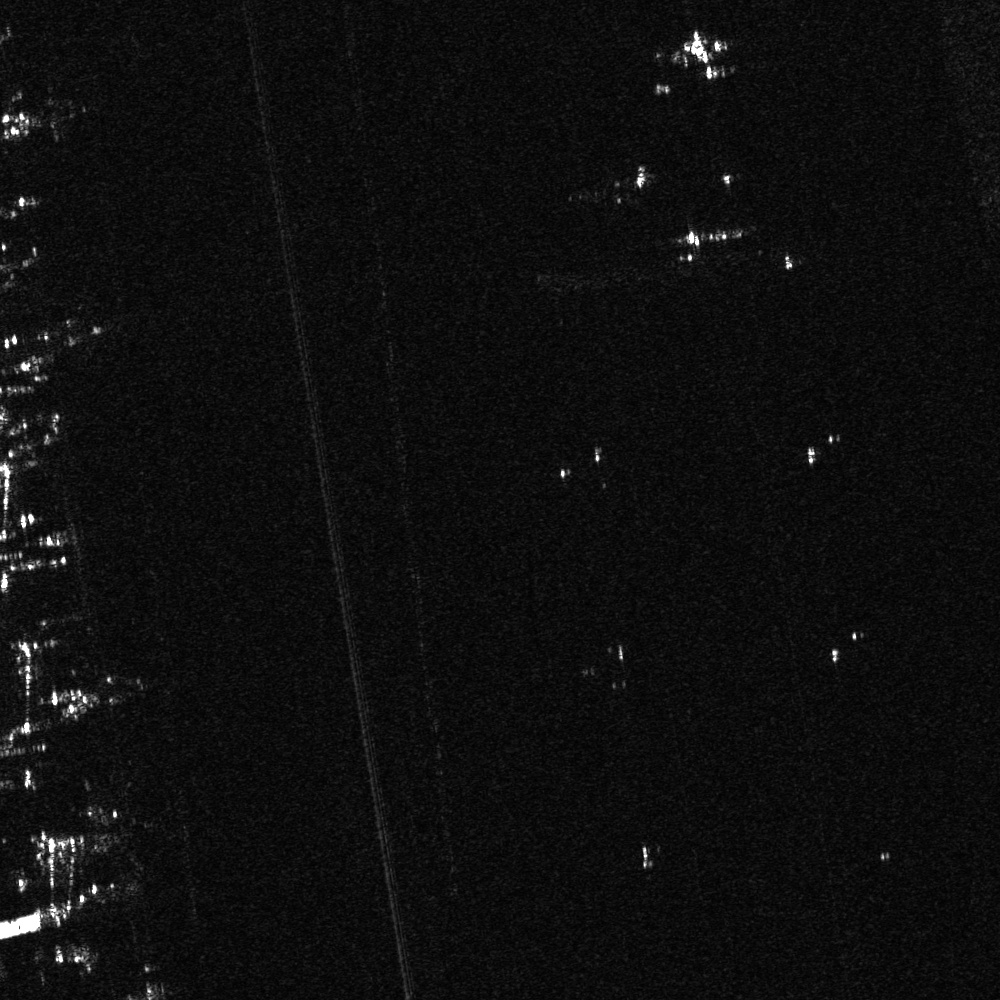A220: (671, 23, 733, 82)
